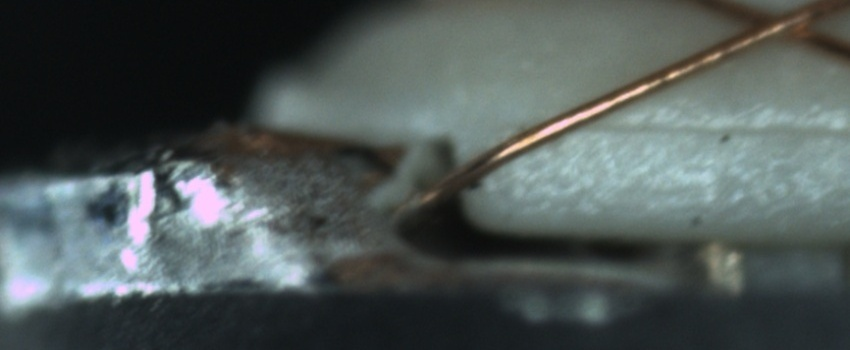CL: (717, 2, 836, 48)
DL: (558, 97, 846, 159)
